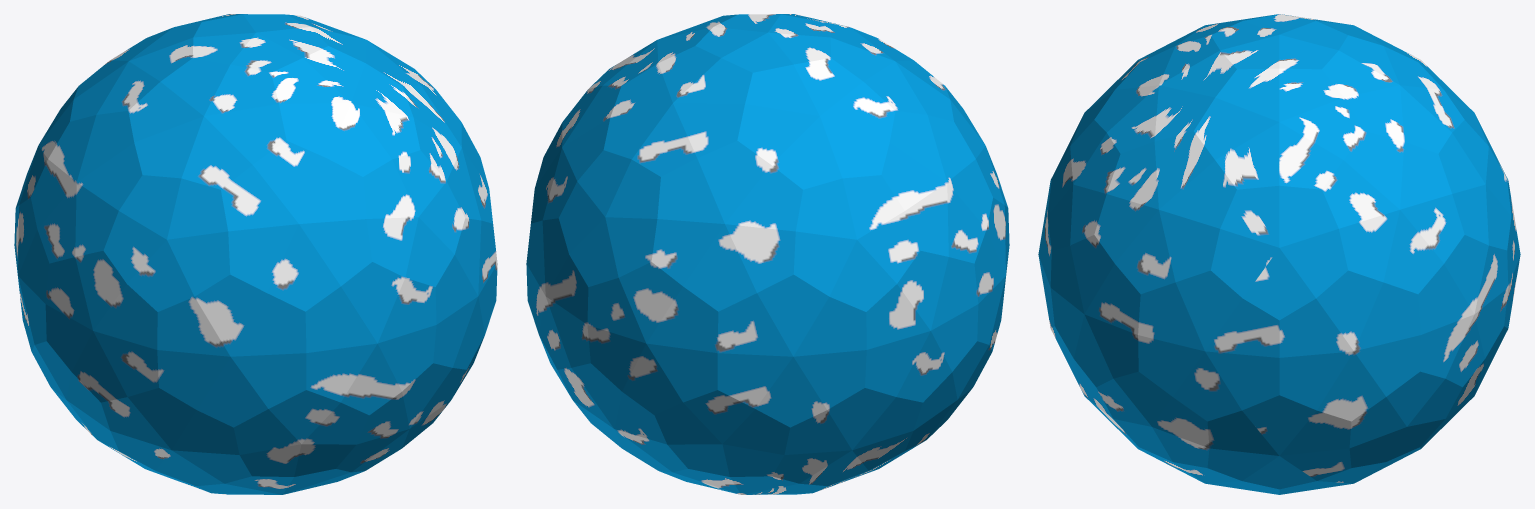
The model's file is Skybox.obj.
3 views of the same model, side by side, from view 1: azimuth 30°, elevation 25°; view 2: azimuth 150°, elevation 25°; view 3: azimuth 270°, elevation 25° (orthographic).
Visible parts, largest first — view 1: Icosphere; view 2: Icosphere; view 3: Icosphere.
Boxes of the visible parts, box(x1,y1,x2,y2) form: Icosphere: box(14, 14, 497, 494); Icosphere: box(526, 14, 1009, 494); Icosphere: box(1038, 14, 1520, 494).
Size of the model in its own units: 1.85 by 1.86 by 1.85.
1 material, 1 textured.
